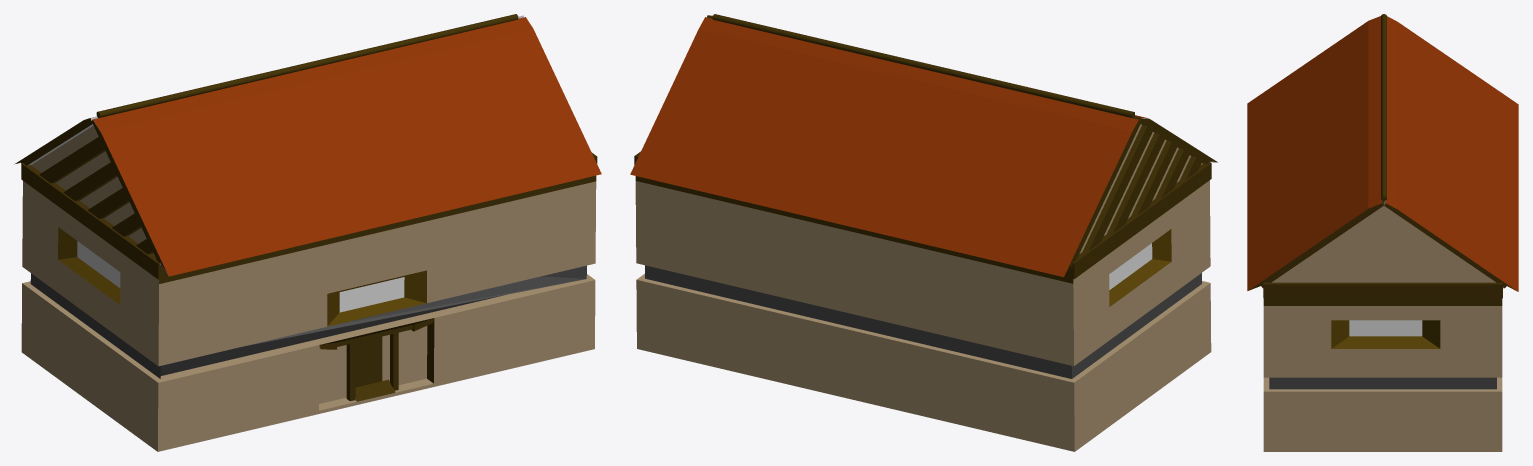
Rendered from Maison 2 proto.fbx.
3 views of the same model, side by side, from view 1: azimuth 30°, elevation 25°; view 2: azimuth 150°, elevation 25°; view 3: azimuth 270°, elevation 25° (orthographic). The views are drawn at different scales.
Parts seen in each view (by area): view 1: pCube8; view 2: pCube8; view 3: pCube8.
Boxes of the visible parts, box(x1,y1,x2,y2) form: pCube8: box(14, 14, 601, 451); pCube8: box(630, 14, 1217, 451); pCube8: box(1247, 14, 1518, 451).
Size of the model in its own units: 7.8 by 4.94 by 4.76.
